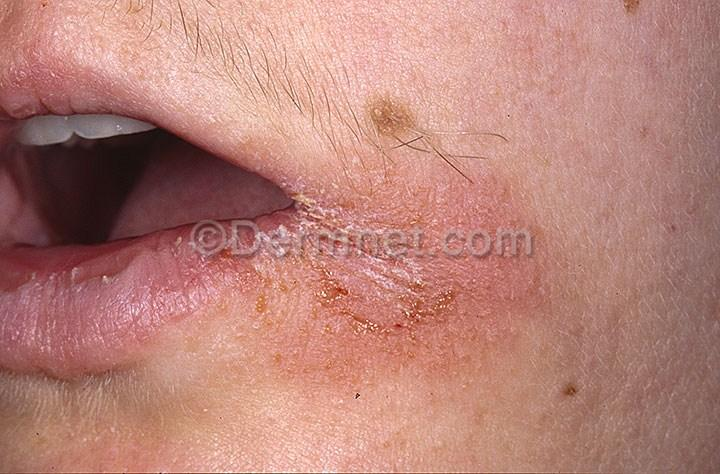Eczema: (310, 203, 439, 353), (211, 261, 310, 362), (439, 147, 531, 232), (443, 269, 529, 352), (361, 70, 417, 155), (599, 0, 656, 29)
